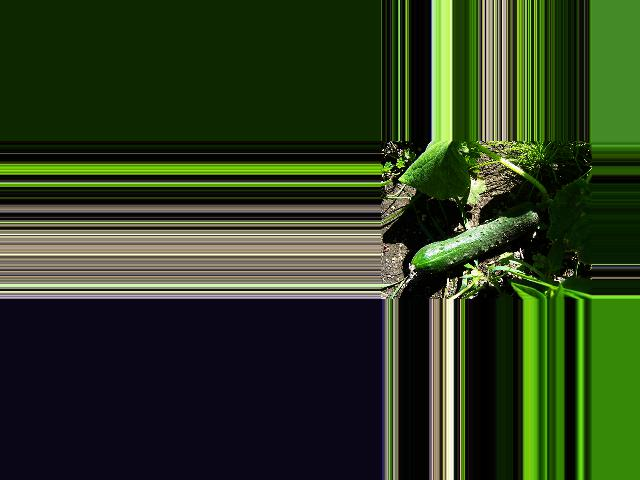cucumber: (409, 201, 541, 274)
